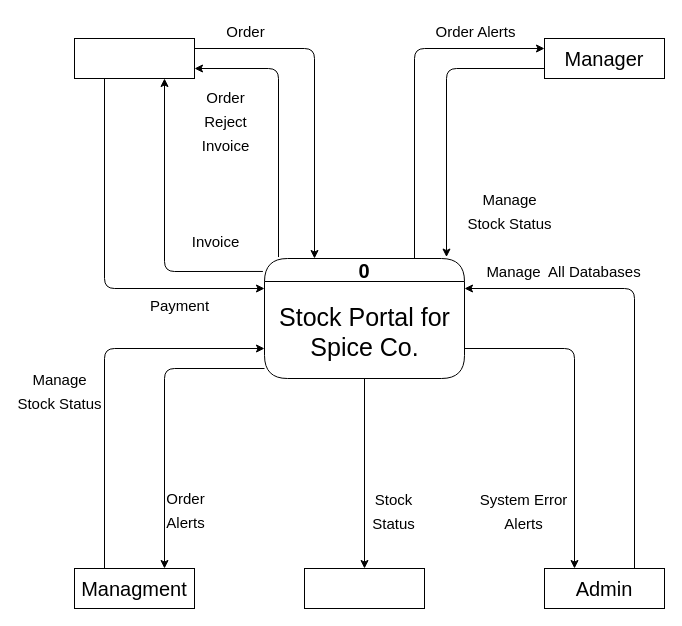
This 682x626 diagram has some shape labels left out. The shapes that lost their labels are listed below. From the top down, each one's box as (x1, y1, x2, y2) in pixels, then its label:
(74, 38, 194, 78): Customer
(304, 568, 424, 608): Inventory
